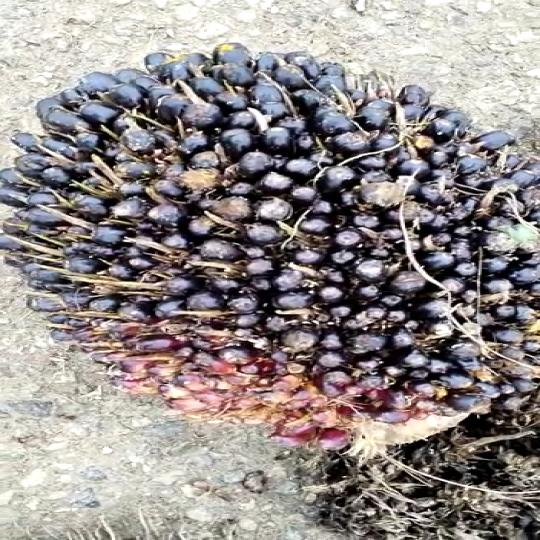mentah: (0, 38, 540, 470)
